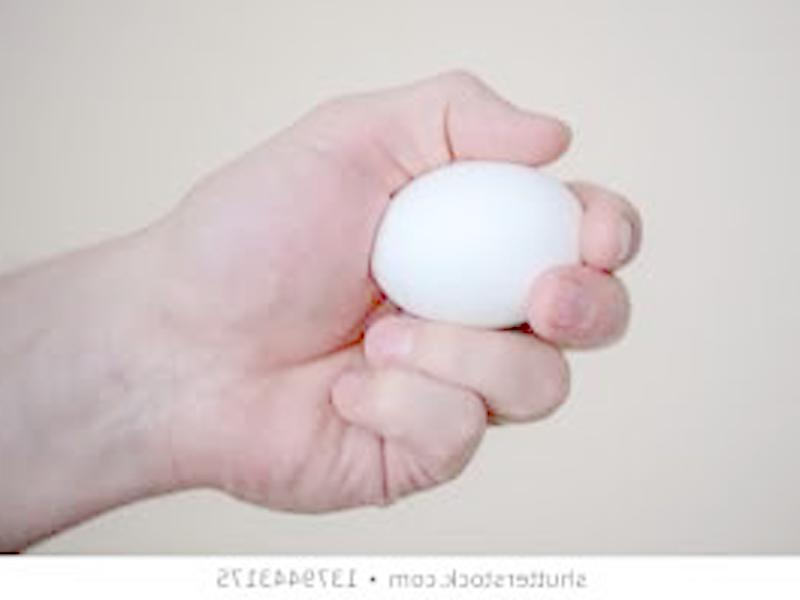Eggs: (367, 161, 582, 325)
